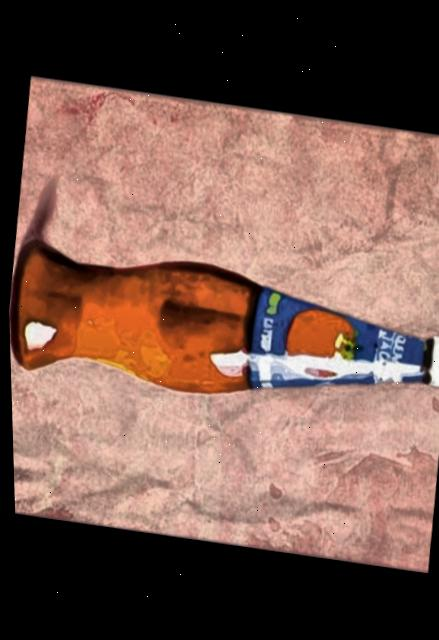La Botella: (2, 75, 439, 572)
